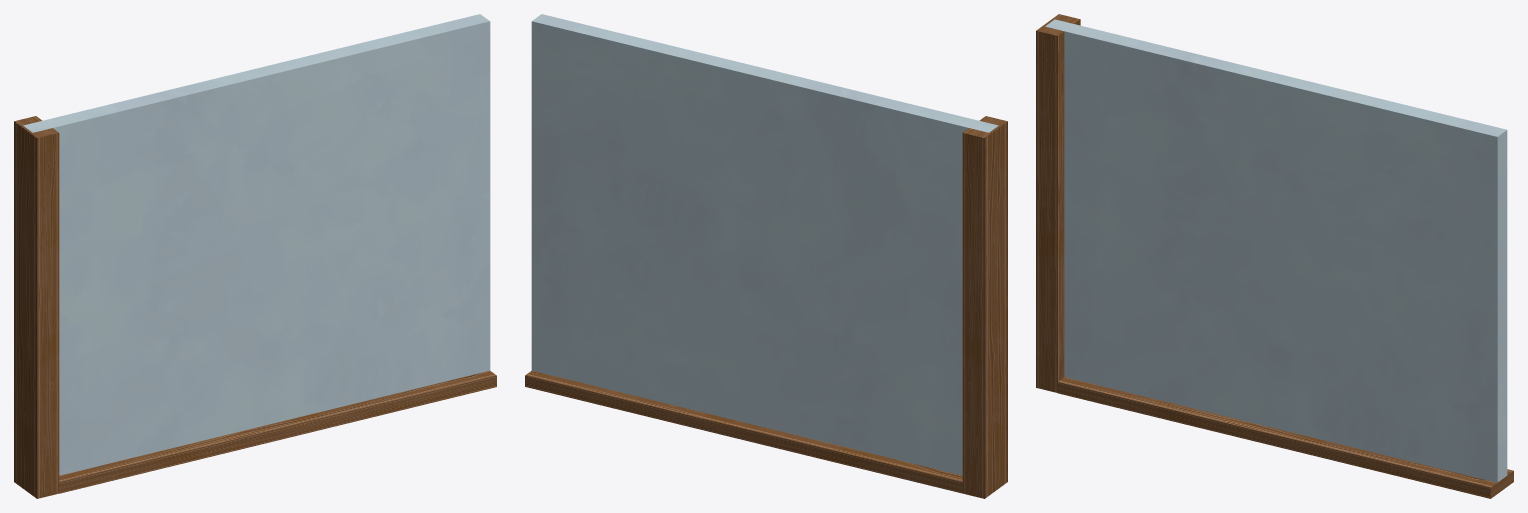
File: SM_Large_Wall_03_wblue.glb
3 renders of one model, left to right at view 1: azimuth 30°, elevation 25°; view 2: azimuth 150°, elevation 25°; view 3: azimuth 330°, elevation 25°, orthographic.
Visible parts, largest first — view 1: SM_Large_Wall_03; view 2: SM_Large_Wall_03; view 3: SM_Large_Wall_03.
Boxes of the visible parts, left/top/right/bottom form: SM_Large_Wall_03: left=14, top=14, right=496, bottom=498; SM_Large_Wall_03: left=525, top=14, right=1007, bottom=498; SM_Large_Wall_03: left=1036, top=14, right=1513, bottom=498.
Size of the model in its own units: 4 by 3 by 0.3524.
2 materials, 2 textured.
